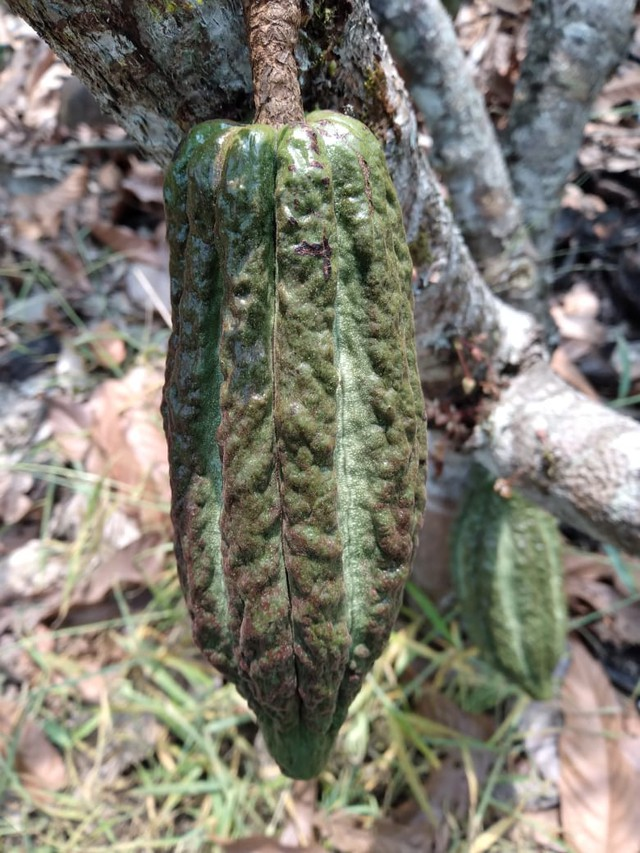Health: (152, 101, 442, 787)
